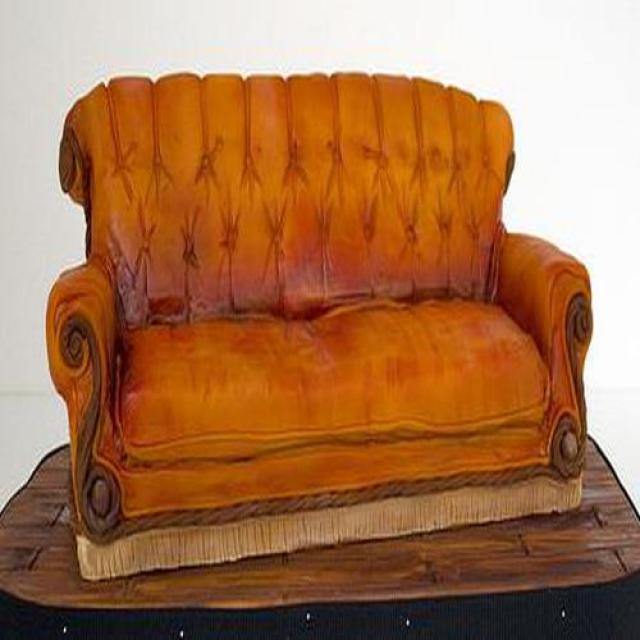sofa: (45, 73, 616, 581)
